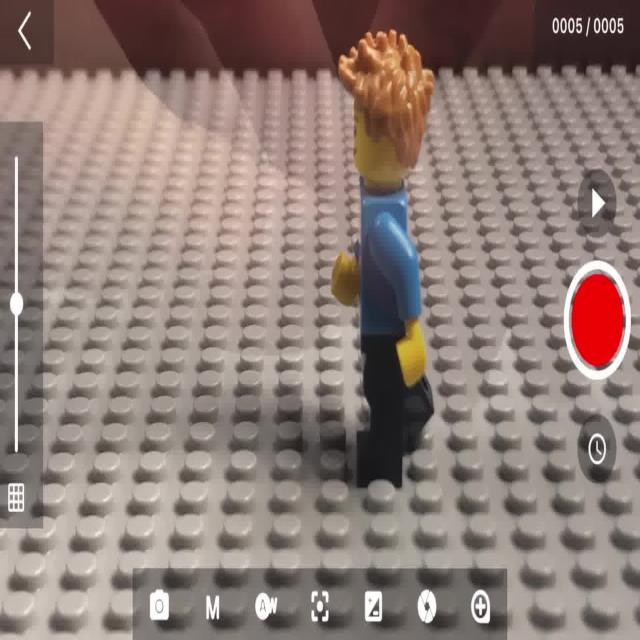4: (368, 209, 428, 387), (336, 241, 363, 314)
hand: (352, 28, 424, 453)
